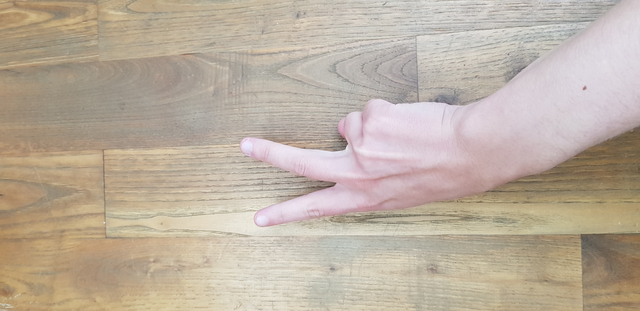Scissors: (225, 85, 523, 240)
